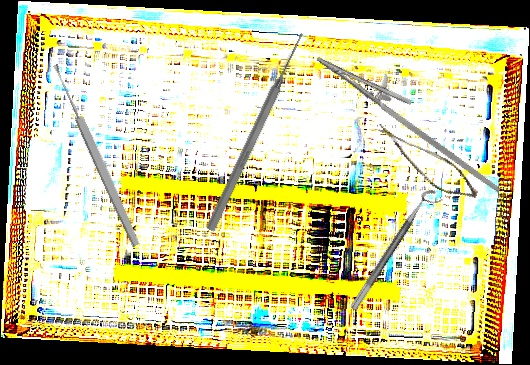Fixation Ring: (348, 185, 446, 318)
Micro Scissor: (364, 123, 488, 205)
Needle Holder: (302, 41, 523, 193)
Pusher: (203, 28, 310, 234)
Surgical Spoon: (50, 62, 142, 248)
